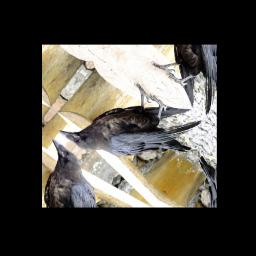Crow: (57, 56, 211, 202)
